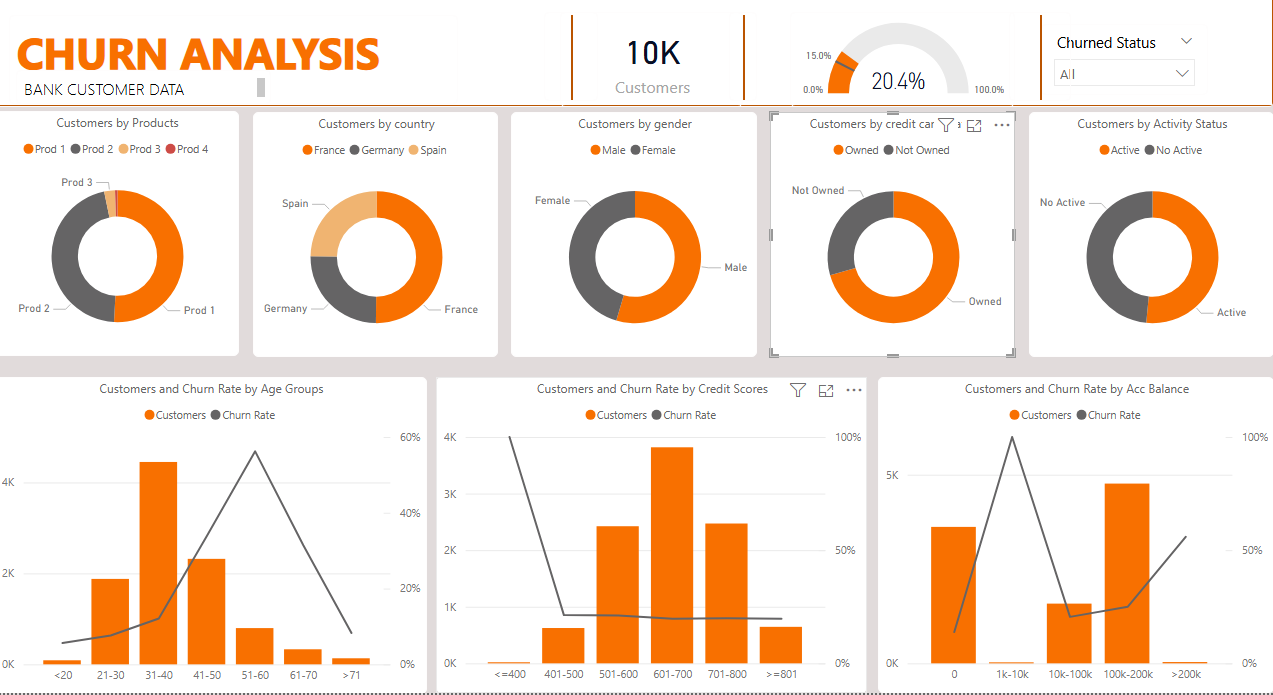

The dashboard page shown, as its layout file describes it:
{"tool":"powerbi","page":{"name":"Page 1","canvas":[1280,720],"ordinal":0},"visuals":[{"type":"shape","box":[0,19.5,1280,114.8],"z":0},{"type":"card","fields":{"Values":["Measures (2).Customers"]},"box":[566.1,38.7,182.9,95.3],"z":1000},{"type":"donutChart","fields":{"Category":["Customer Data.gender"],"Y":["Measures (2).Customers"]},"box":[517.4,139.1,245.1,245.1],"z":2000},{"type":"donutChart","fields":{"Y":["Measures (2).Customers"],"Category":["Customer Data.credit card Status"]},"box":[776.2,139.1,245.1,245.1],"z":3000},{"type":"donutChart","fields":{"Category":["Customer Data.Activity Status"],"Y":["Measures (2).Customers"]},"box":[1034.9,139.1,245.1,245.1],"z":4000},{"type":"donutChart","fields":{"Y":["Measures (2).Customers"],"Category":["Customer Data.country"]},"box":[258.7,139.1,245.1,245.1],"z":5000},{"type":"donutChart","fields":{"Y":["Measures (2).Customers"],"Category":["Customer Data.Products"]},"box":[-0.1,138.4,245.1,245.1],"z":6000},{"type":"lineClusteredColumnComboChart","fields":{"Category":["Age Groups.Age Groups"],"Y":["Measures (2).Customers"],"Y2":["Measures (2).Churn Rate"]},"box":[0,403.6,432.8,317],"z":7000},{"type":"lineClusteredColumnComboChart","fields":{"Y":["Measures (2).Customers"],"Y2":["Measures (2).Churn Rate"],"Category":["Credit Scores Groups.Credit Scores"]},"box":[441.6,403.6,431.9,316.1],"z":8000},{"type":"lineClusteredColumnComboChart","fields":{"Y":["Measures (2).Customers"],"Y2":["Measures (2).Churn Rate"],"Category":["Acc Balance Groups.Acc Balance"]},"box":[884.1,403.6,395.9,316.1],"z":9000},{"type":"slicer","fields":{"Values":["Customer Data.Churned"]},"box":[1046.6,50.9,167.3,71],"z":10000},{"type":"gauge","fields":{"Y":["Measures (2).Churn Rate"],"MaxValue":["Max(Customer Data.Max Churn)"],"MinValue":["Min(Customer Data.Min Churn Rate)"],"TargetValue":["Max(Customer Data.Target Churn Rate)"]},"box":[795.6,38.7,225.7,95.3],"z":11000},{"type":"textbox","box":[14.6,41.8,449.4,89.5],"z":12000},{"type":"textbox","box":[22.4,97.3,254.8,34],"z":13000},{"type":"shape","box":[1015.4,38.9,61.3,89.5],"z":14000},{"type":"shape","box":[735.3,38.9,27.2,89.5],"z":15000},{"type":"shape","box":[549.5,38.9,54.5,89.5],"z":16000}]}

Visuals, with their boxes on the page's 1280x720 design canvas (x1, y1, x2, y2). These are canvas units, not pixel positions in the 1273x695 screenshot, which may show the page scaled, cropped or inside an application window:
shape: bbox(0, 20, 1280, 134)
card - Measures (2).Customers: bbox(566, 39, 749, 134)
donutChart - Customer Data.gender x Measures (2).Customers: bbox(517, 139, 762, 384)
donutChart - Measures (2).Customers x Customer Data.credit card Status: bbox(776, 139, 1021, 384)
donutChart - Customer Data.Activity Status x Measures (2).Customers: bbox(1035, 139, 1280, 384)
donutChart - Measures (2).Customers x Customer Data.country: bbox(259, 139, 504, 384)
donutChart - Measures (2).Customers x Customer Data.Products: bbox(0, 138, 245, 384)
lineClusteredColumnComboChart - Age Groups.Age Groups x Measures (2).Customers: bbox(0, 404, 433, 721)
lineClusteredColumnComboChart - Measures (2).Customers x Measures (2).Churn Rate: bbox(442, 404, 874, 720)
lineClusteredColumnComboChart - Measures (2).Customers x Measures (2).Churn Rate: bbox(884, 404, 1280, 720)
slicer - Customer Data.Churned: bbox(1047, 51, 1214, 122)
gauge - Measures (2).Churn Rate x Max(Customer Data.Max Churn): bbox(796, 39, 1021, 134)
textbox: bbox(15, 42, 464, 131)
textbox: bbox(22, 97, 277, 131)
shape: bbox(1015, 39, 1077, 128)
shape: bbox(735, 39, 762, 128)
shape: bbox(550, 39, 604, 128)
